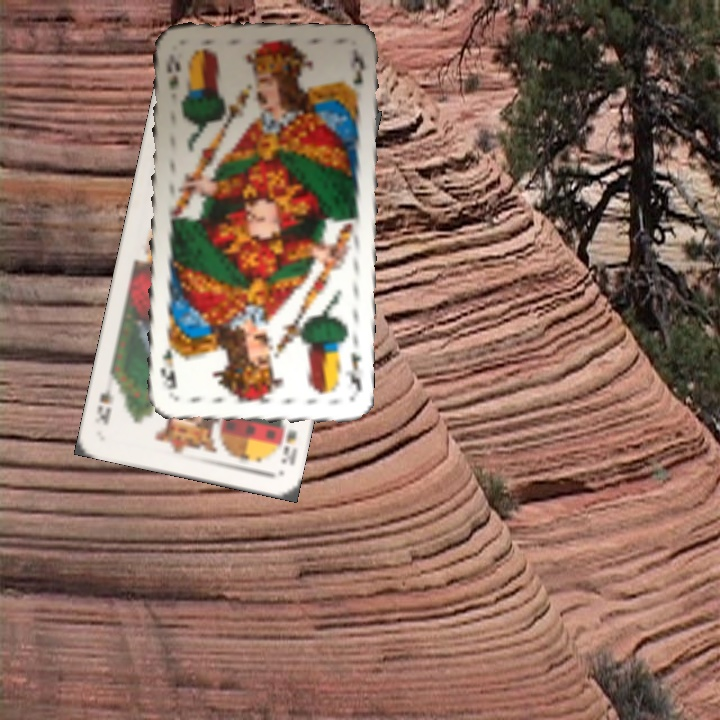EK: (341, 349, 365, 394), (162, 50, 183, 92)
SK: (277, 426, 300, 468)
